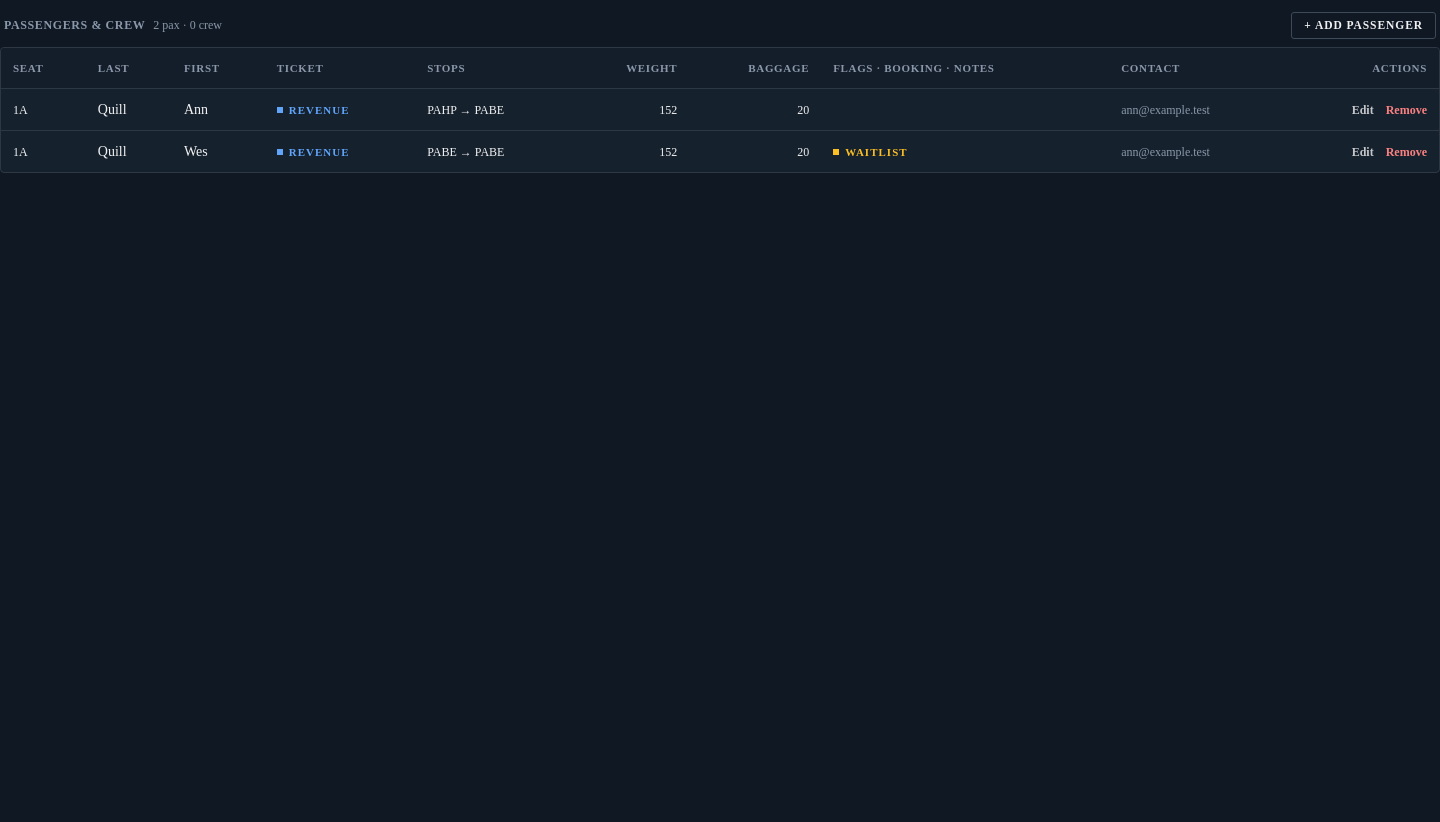
Test: Passengers & Crew (#62) › asks where each boards and deplanes on a flight with stops (#120)
Expected: the text "PAHP → PABE" is shown, [415,89,573,131]
Expected: the text "PABE → PABE" is shown, [415,131,573,172]
Step 1. Click the button "Edit" in the row of "PAHP" → point(1363, 110), box [1352,102,1374,118]
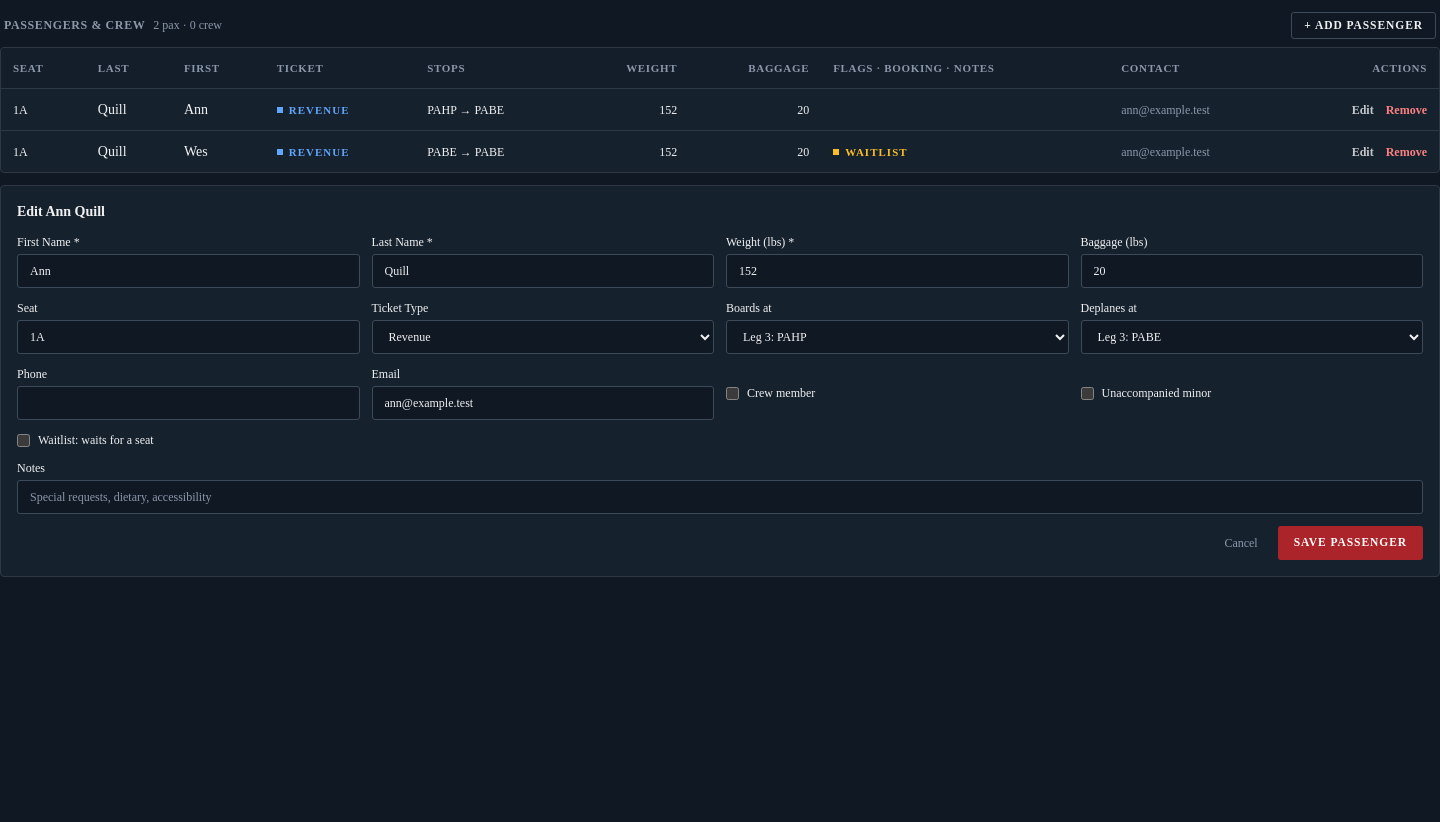
Now the dropdown labelled "Boards at" shows "Leg 3: PAHP", box [726,320,1068,354]
Now the dropdown labelled "Deplanes at" shows "Leg 3: PABE", box [1080,320,1423,354]
Now the checkbox labelled "Waitlist: waits for a seat" is not checked, box [17,434,30,447]
